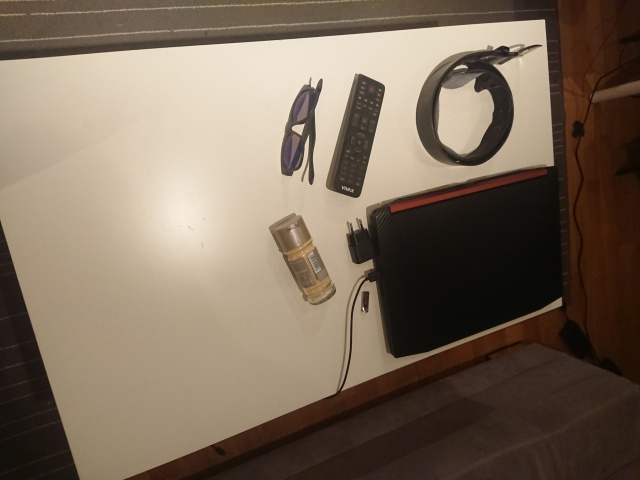Kotanyi Garlic Granules 70g: (272, 214, 338, 307)
